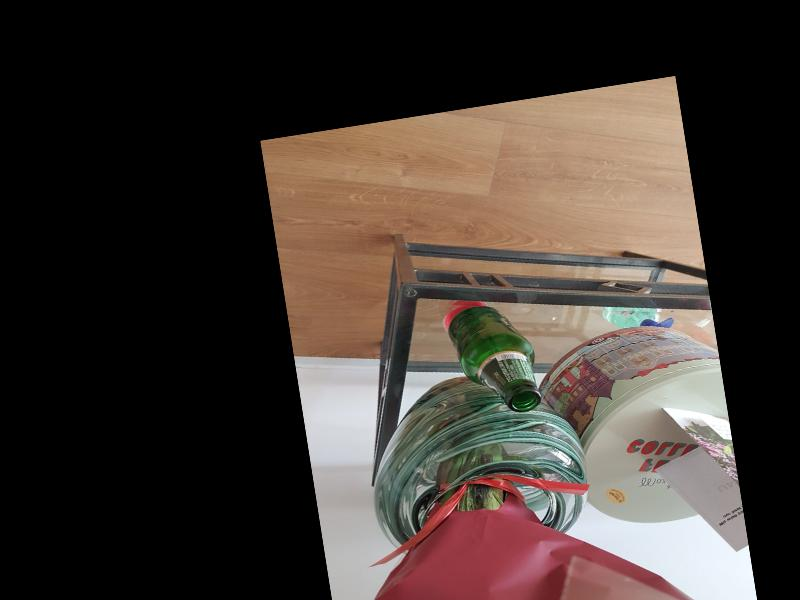Beer: (444, 298, 543, 421)
